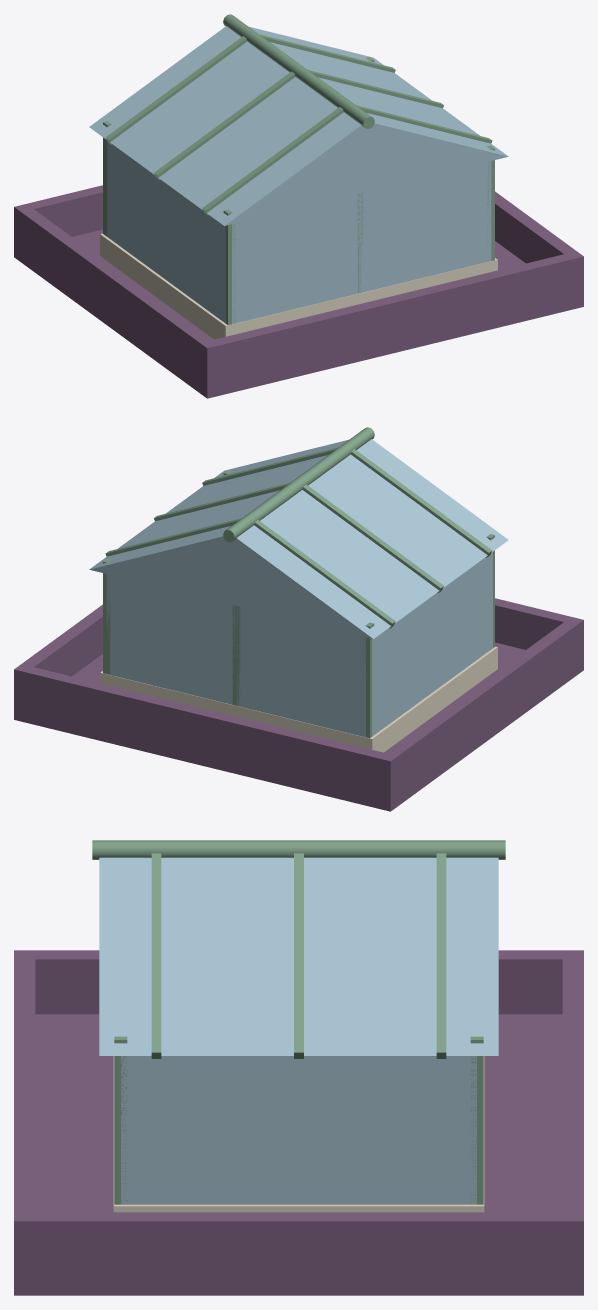
The model's file is roof_productive_gardens.glb.
The picture shows the model from 3 angles, top to bottom: view 1: azimuth 30°, elevation 25°; view 2: azimuth 150°, elevation 25°; view 3: azimuth 270°, elevation 25°; orthographic projection. The views are drawn at different scales.
Parts seen in each view (by area): view 1: roof_productive_gardens glass, roof_productive_gardens patina, roof_productive_gardens pine, roof_productive_gardens mist; view 2: roof_productive_gardens glass, roof_productive_gardens patina, roof_productive_gardens pine, roof_productive_gardens mist; view 3: roof_productive_gardens glass, roof_productive_gardens patina, roof_productive_gardens pine, roof_productive_gardens mist.
Part boxes in pixels (x1,y1,x2,y2): roof_productive_gardens glass: [89, 26, 508, 324]; roof_productive_gardens patina: [14, 185, 583, 398]; roof_productive_gardens pine: [103, 14, 494, 325]; roof_productive_gardens mist: [100, 233, 497, 339]; roof_productive_gardens glass: [89, 439, 508, 737]; roof_productive_gardens patina: [14, 598, 583, 811]; roof_productive_gardens pine: [103, 427, 494, 738]; roof_productive_gardens mist: [100, 646, 497, 752]; roof_productive_gardens glass: [99, 857, 498, 1204]; roof_productive_gardens patina: [14, 950, 583, 1295]; roof_productive_gardens pine: [92, 840, 505, 1204]; roof_productive_gardens mist: [113, 1056, 484, 1212].
Bounding box in the file's own units: 0.9 × 0.4933 × 0.8.
